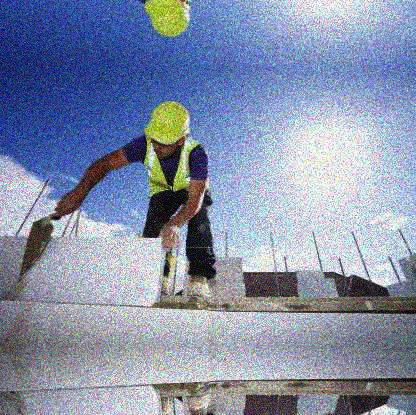helmet: (144, 101, 193, 159)
